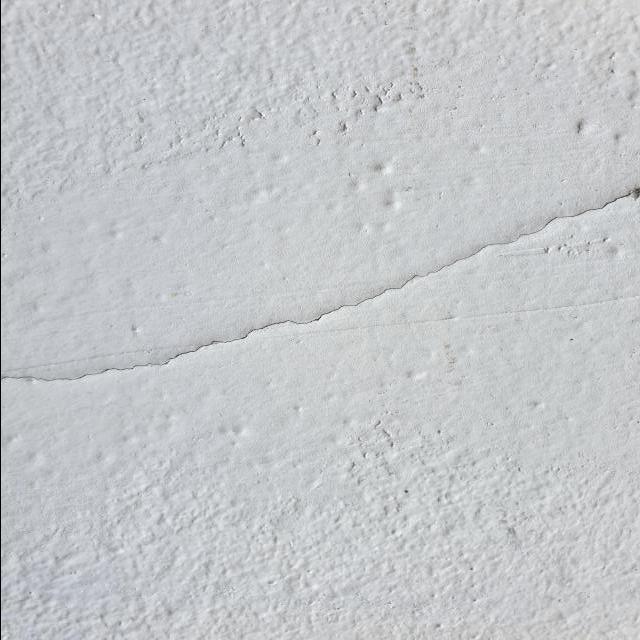SurfaceCrack: (1, 153, 640, 417)
